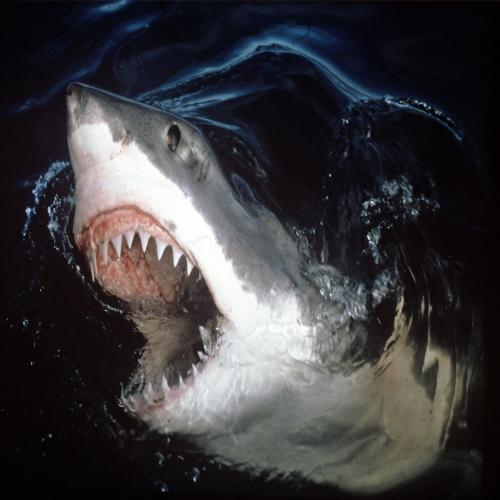shark-endangered: (62, 72, 336, 442)
